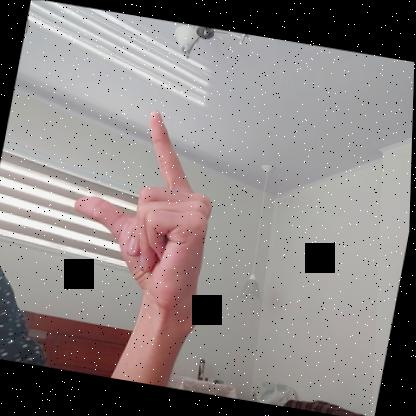L: (57, 96, 234, 315)
